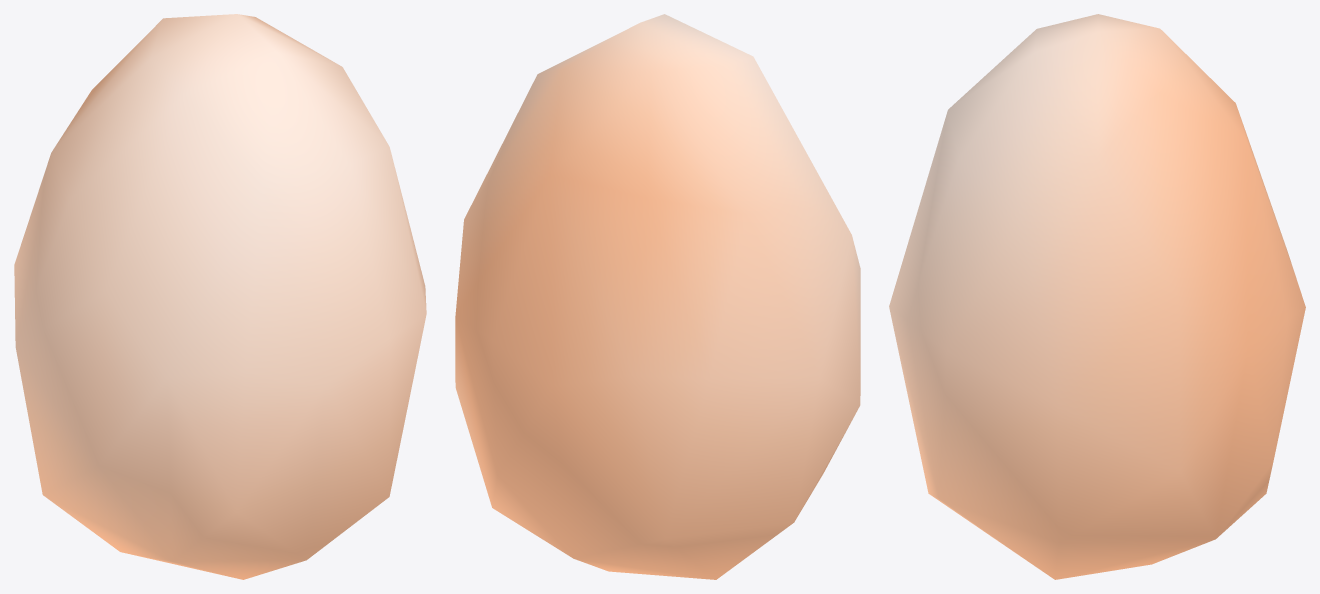
The model's file is egg.glb.
3 views of the same model, side by side, from view 1: azimuth 30°, elevation 25°; view 2: azimuth 150°, elevation 25°; view 3: azimuth 270°, elevation 25° (orthographic).
Parts seen in each view (by area): view 1: egg; view 2: egg; view 3: egg.
Part boxes in pixels (x1,y1,x2,y2): egg: (14,14,426,579); egg: (455,14,860,579); egg: (889,14,1305,579).
Size of the model in its own units: 0.1652 by 0.2347 by 0.1646.
1 material, 1 textured.
